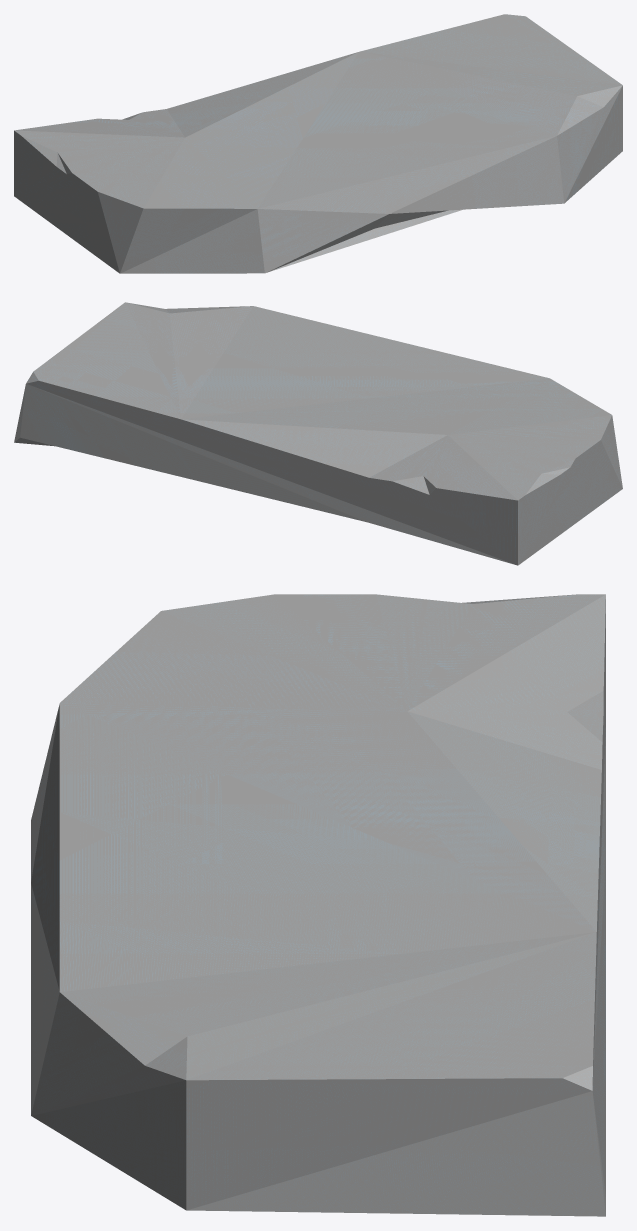
Rendered from Doorstep3.fbx.
3 views of the same model, one above another, from view 1: azimuth 30°, elevation 25°; view 2: azimuth 150°, elevation 25°; view 3: azimuth 270°, elevation 25° (orthographic). The views are drawn at different scales.
Visible parts, largest first — view 1: Group1; view 2: Group1; view 3: Group1.
Boxes of the visible parts, x1=… form: Group1: x1=14, y1=14, x2=622, y2=273; Group1: x1=14, y1=302, x2=622, y2=565; Group1: x1=31, y1=594, x2=605, y2=1216.
Size of the model in its own units: 810 by 100 by 400.
